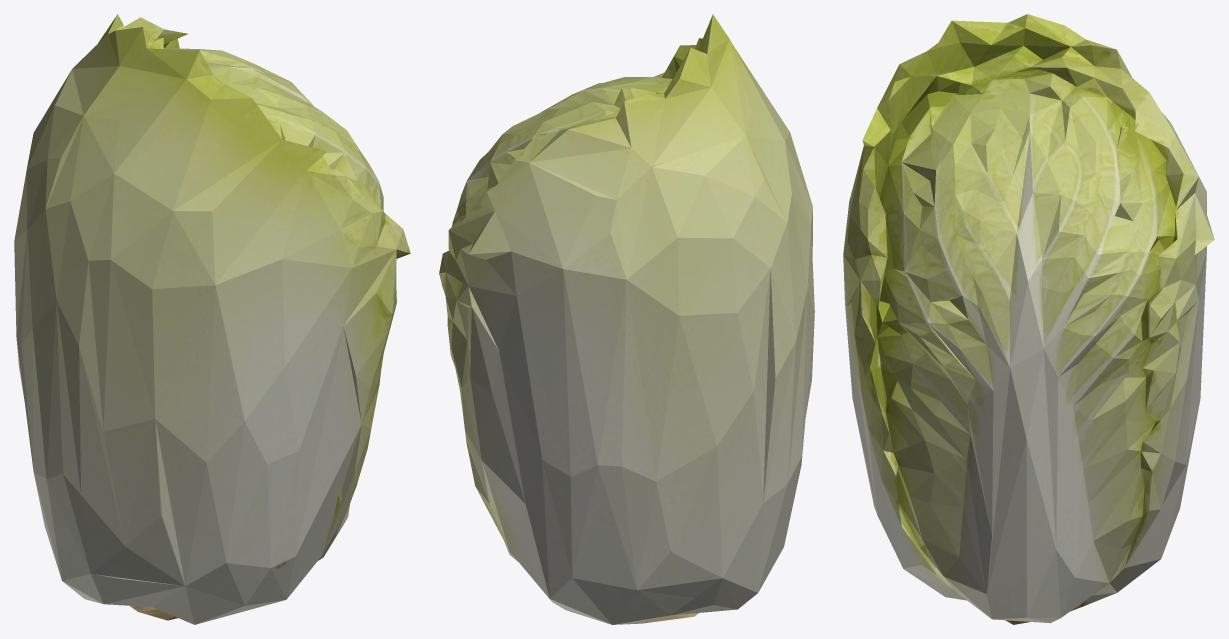
File: HAKUSAI.obj
3 views of the same model, side by side, from view 1: azimuth 30°, elevation 25°; view 2: azimuth 150°, elevation 25°; view 3: azimuth 270°, elevation 25° (orthographic). The views are drawn at different scales.
Parts seen in each view (by area): view 1: tripo_node_9787acbe-f357-474d-bb8d-d09bfcc5f452; view 2: tripo_node_9787acbe-f357-474d-bb8d-d09bfcc5f452; view 3: tripo_node_9787acbe-f357-474d-bb8d-d09bfcc5f452.
Part boxes in pixels (x1,y1,x2,y2): tripo_node_9787acbe-f357-474d-bb8d-d09bfcc5f452: [14, 14, 410, 624]; tripo_node_9787acbe-f357-474d-bb8d-d09bfcc5f452: [439, 14, 814, 624]; tripo_node_9787acbe-f357-474d-bb8d-d09bfcc5f452: [843, 14, 1214, 624].
Bounding box in the file's own units: 0.5918 × 1.01 × 0.6123.
1 material, 1 textured.
